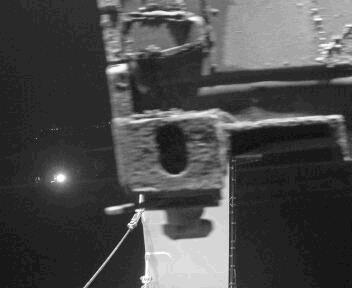twist_lock_1: (176, 183, 271, 244)
